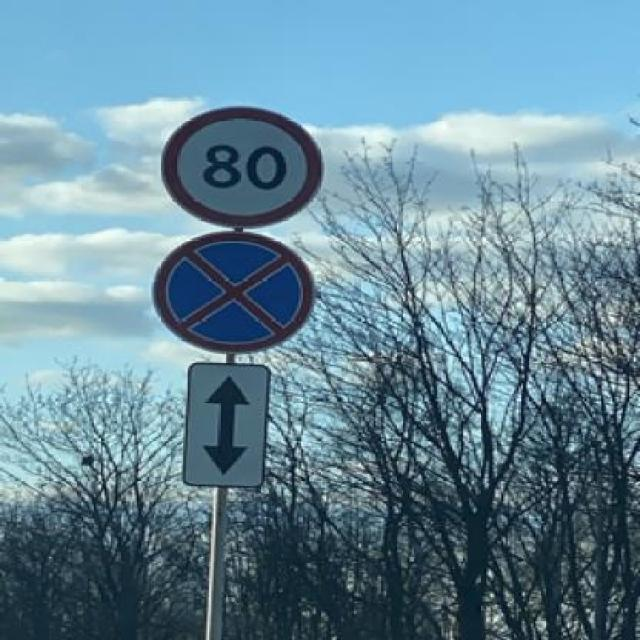forb_speed_over_80: (162, 106, 319, 226)
